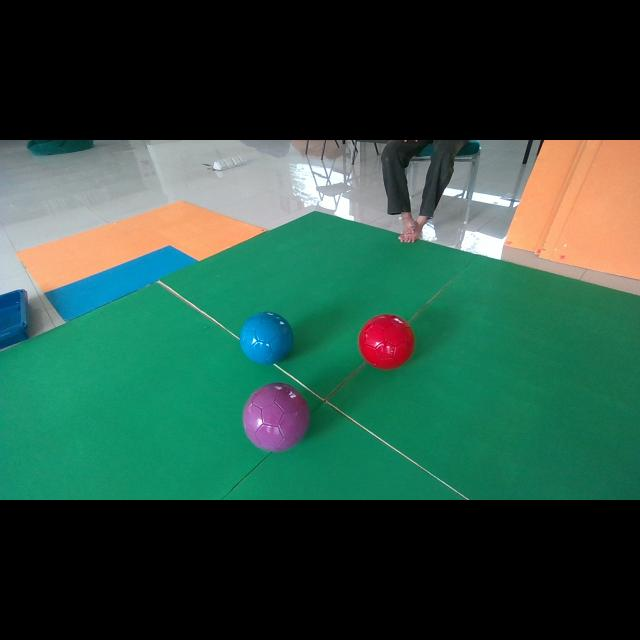B: (359, 314, 415, 368), (240, 312, 294, 365)
P: (242, 382, 310, 451)
